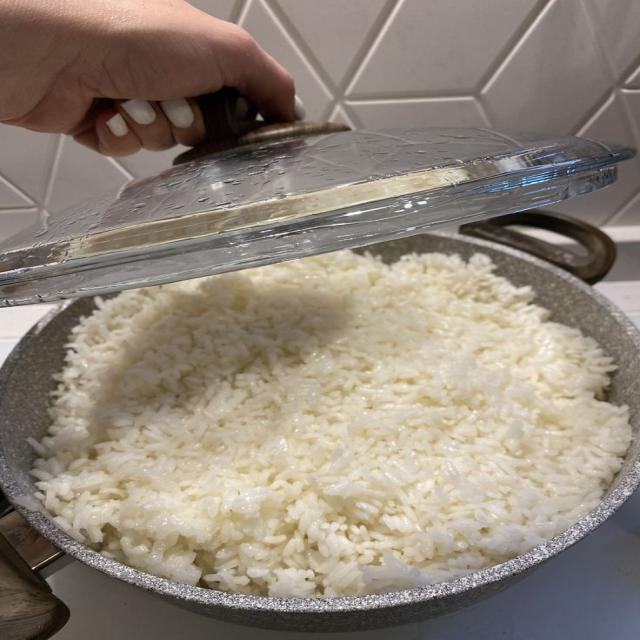rice: (34, 252, 631, 596)
